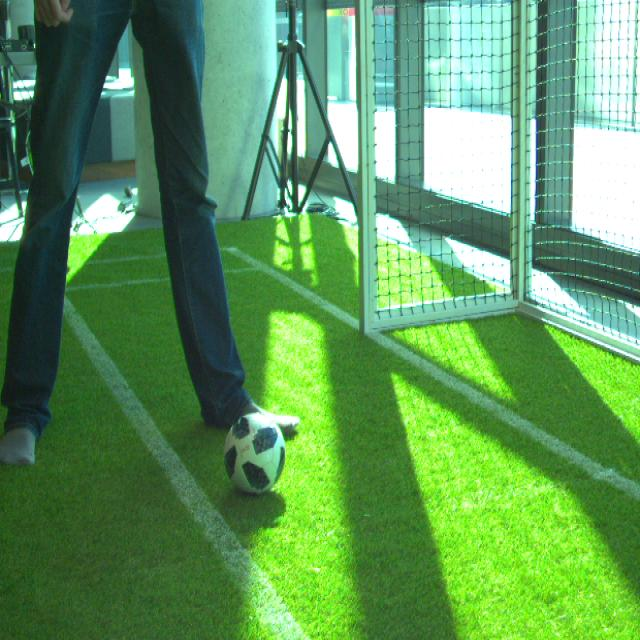ball: (223, 413, 286, 495)
goalpost: (355, 1, 375, 336)
